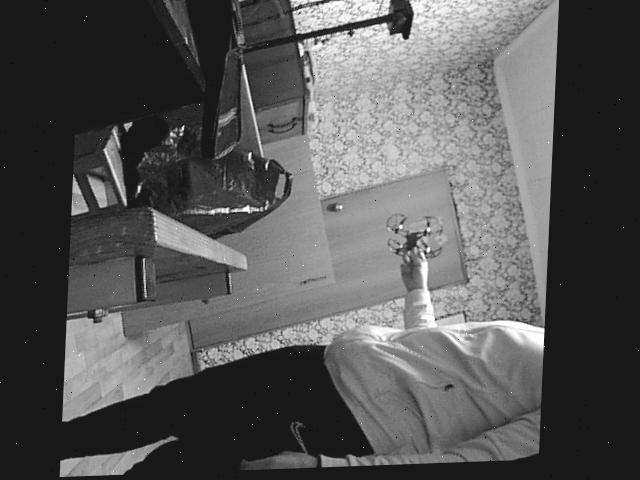drone: (381, 207, 458, 272)
